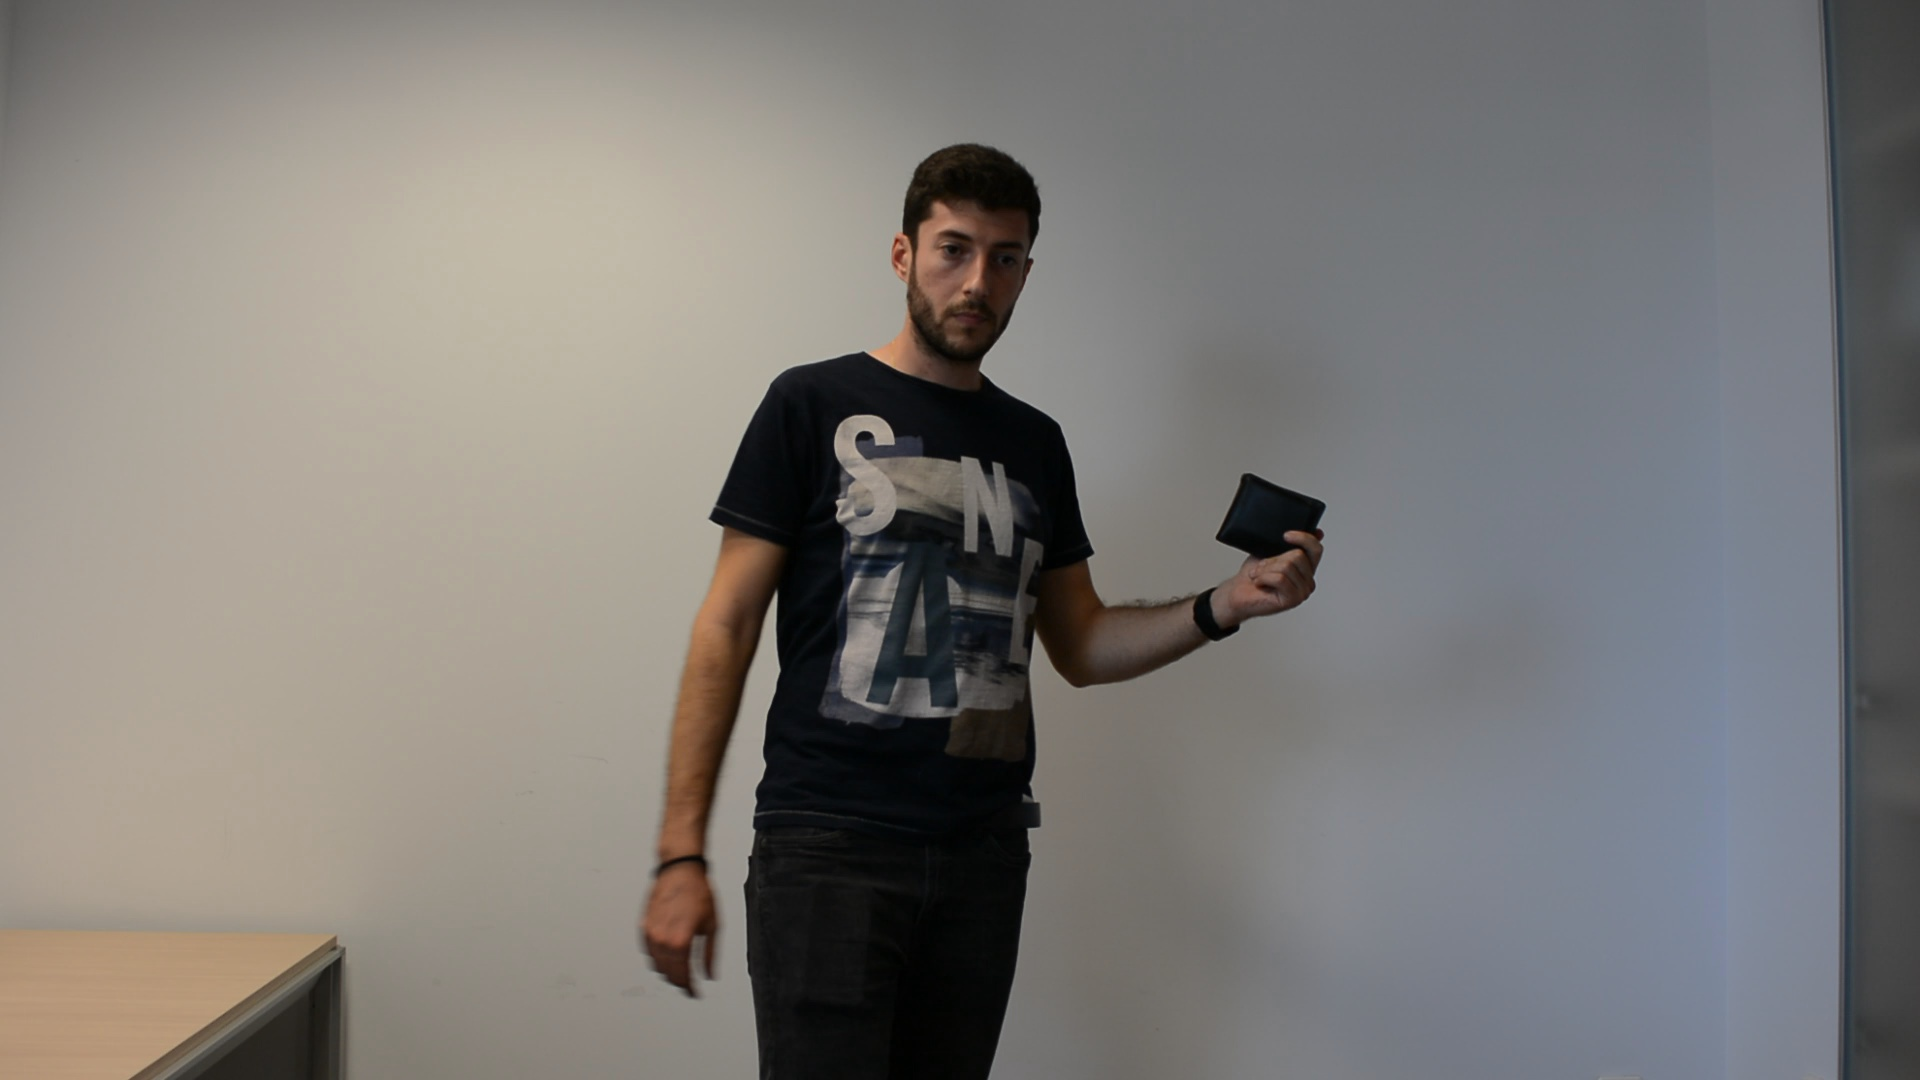monedero: (1213, 469, 1329, 567)
